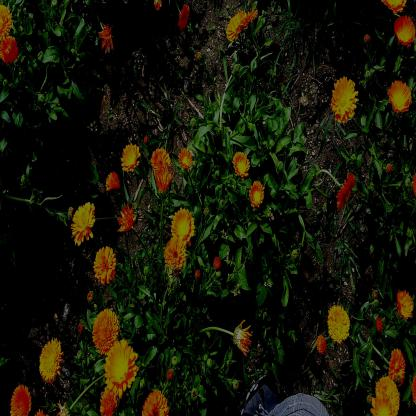marigold: (108, 342, 135, 386), (93, 311, 121, 348), (332, 76, 356, 118), (71, 203, 96, 242), (374, 379, 399, 416), (40, 337, 61, 379), (326, 306, 350, 342), (95, 245, 115, 282), (390, 79, 412, 112), (171, 210, 193, 240), (9, 385, 31, 415), (388, 350, 408, 381), (164, 242, 185, 271), (232, 147, 251, 178), (0, 34, 19, 64), (393, 16, 414, 43), (396, 288, 414, 319), (143, 391, 165, 415), (122, 143, 140, 169), (151, 148, 170, 170), (249, 179, 264, 206), (228, 15, 243, 40), (180, 145, 193, 170)
